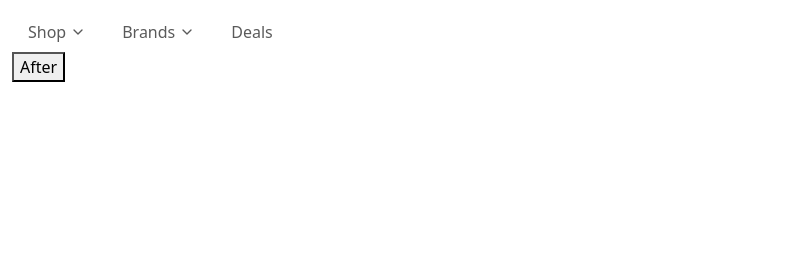
MegaMenu › AC-8: hover-opened panel stays open while hovered and closes on Escape
Hover over the button "Shop" at x=57, y=32, box x1=12 y1=12 x2=102 y2=52
Wait 150 ms
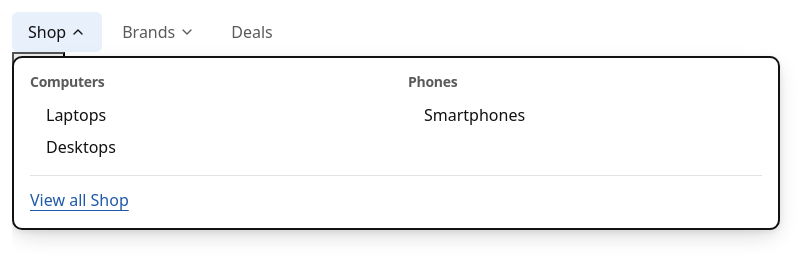
Expected: the button "Shop" is expanded, x1=12 y1=12 x2=102 y2=52
Hover over the link "Desktops" at x=81, y=147, box x1=46 y1=136 x2=116 y2=158
Expected: the button "Shop" is expanded, x1=12 y1=12 x2=102 y2=52
Press Escape
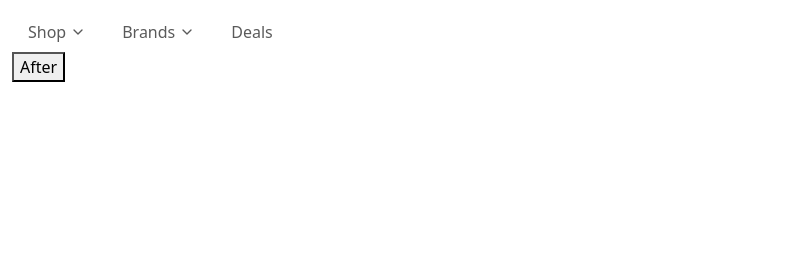
Expected: the button "Shop" is collapsed, x1=12 y1=12 x2=102 y2=52
